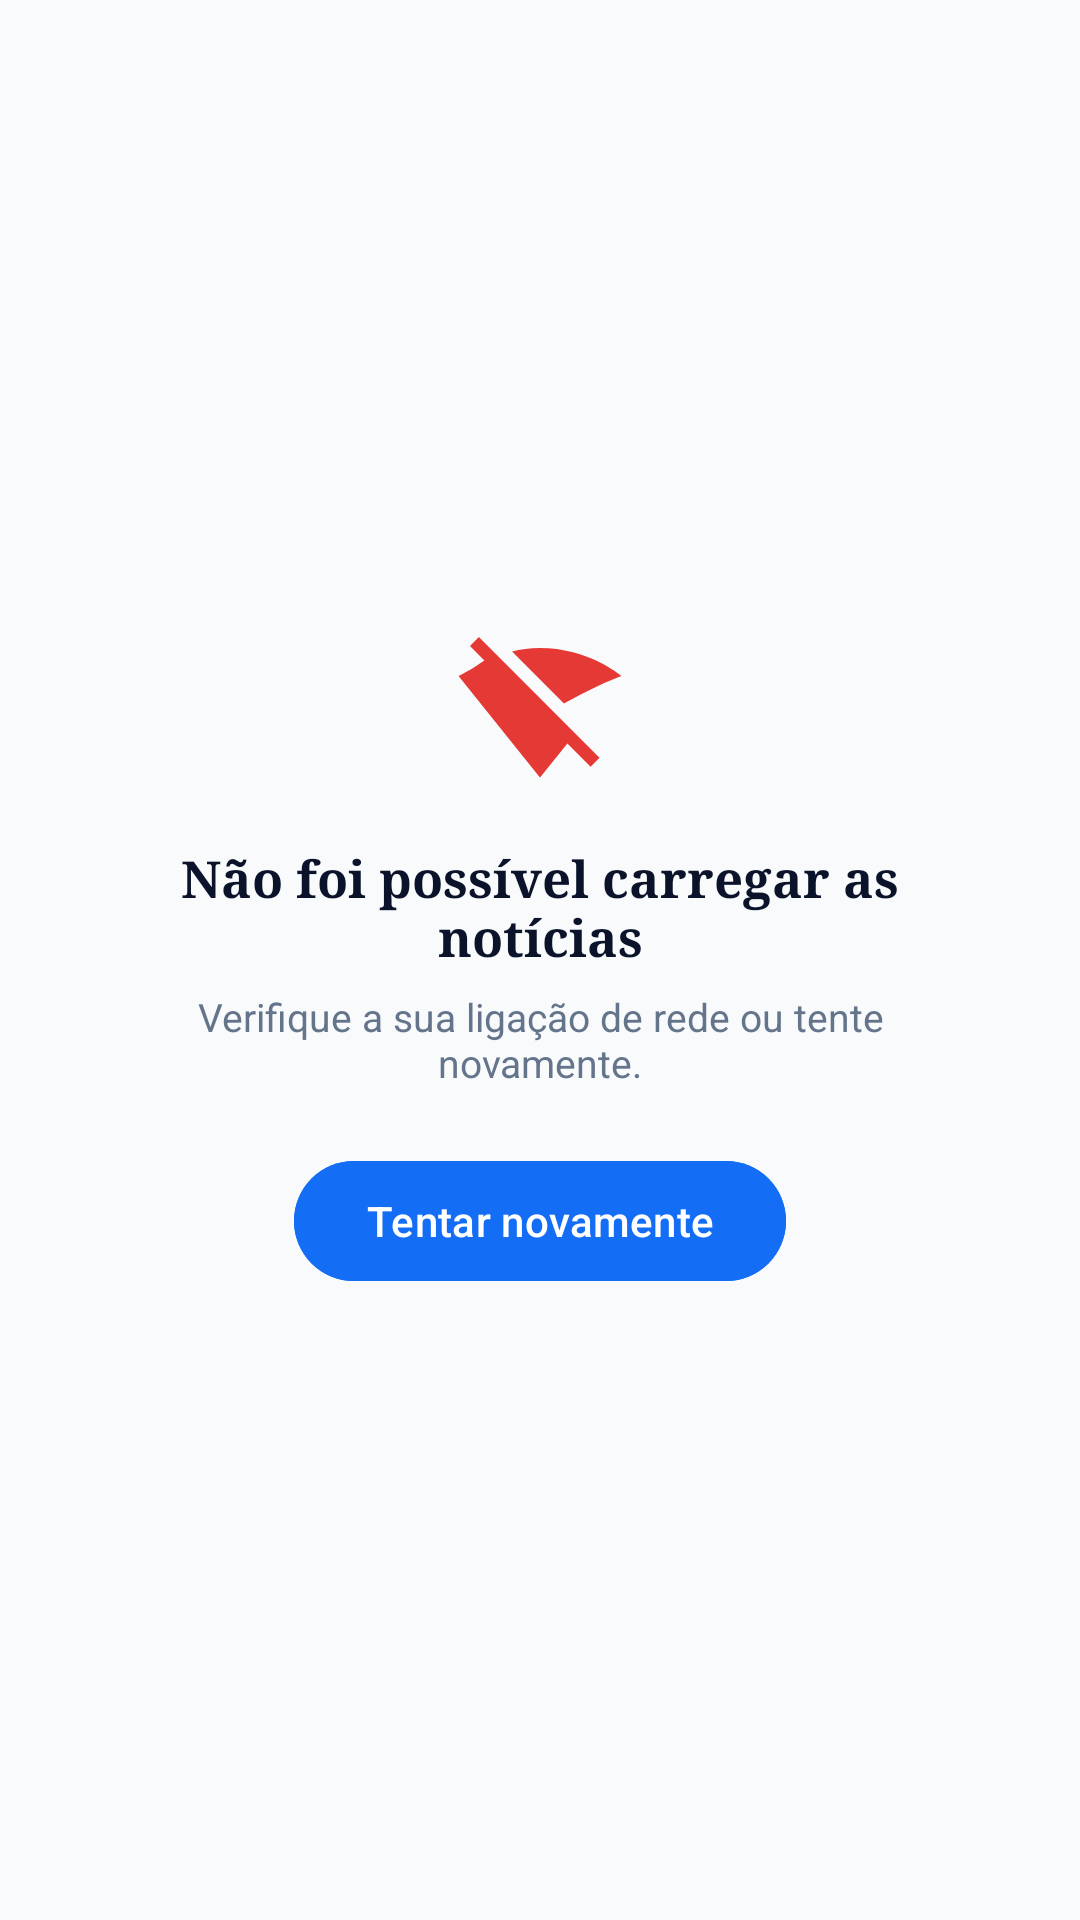

Screen size 1080×1920. Icon name, then its center in pixels as point (x, y):
wifi off: point (539, 707)
